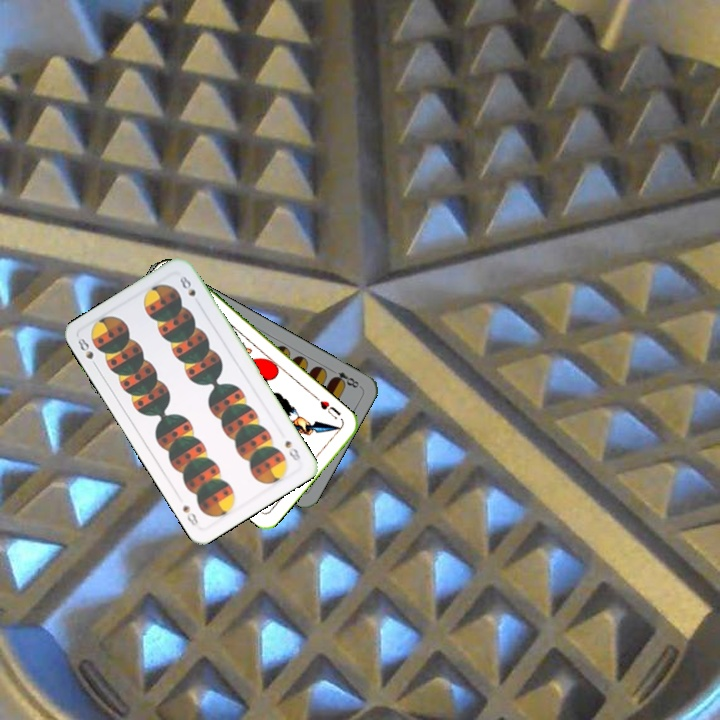E8: (328, 367, 363, 391)
HU: (316, 397, 343, 422)
S8: (74, 334, 101, 371), (281, 436, 304, 463)
